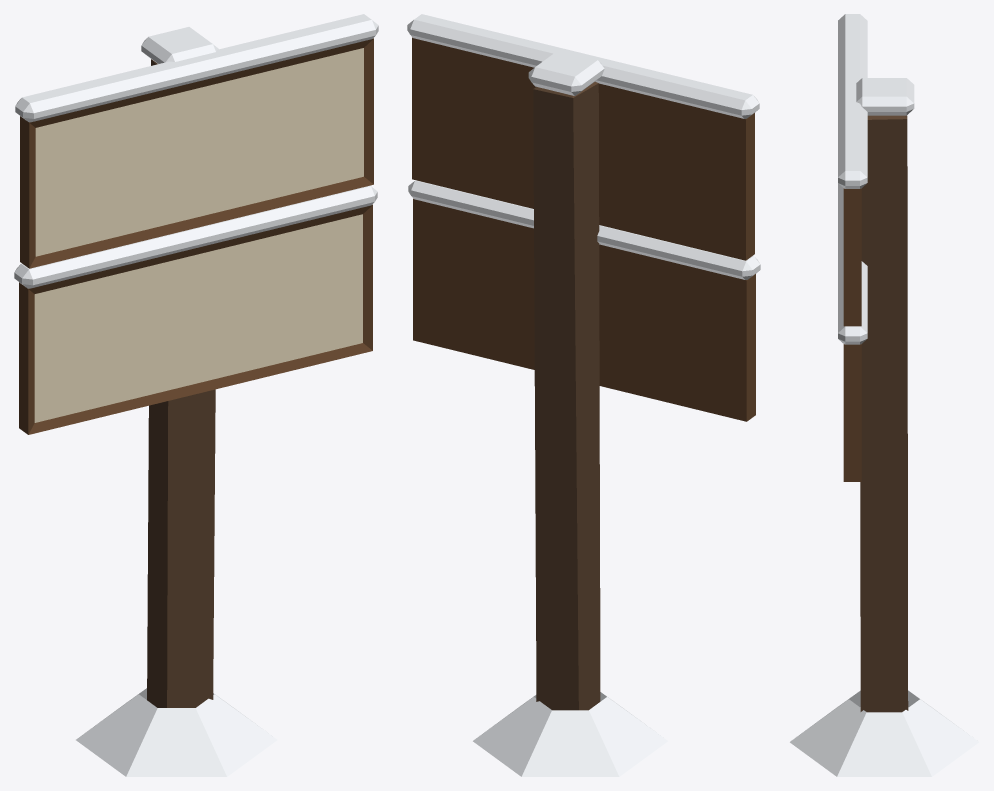
File: trail-sign-double.glb
The picture shows the model from 3 angles, left to right: view 1: azimuth 30°, elevation 25°; view 2: azimuth 150°, elevation 25°; view 3: azimuth 270°, elevation 25°; orthographic projection. The views are drawn at different scales.
Visible parts, largest first — view 1: trail-sign-double; view 2: trail-sign-double; view 3: trail-sign-double.
Boxes of the visible parts, x1=… form: trail-sign-double: x1=14, y1=14, x2=378, y2=776; trail-sign-double: x1=407, y1=14, x2=760, y2=776; trail-sign-double: x1=790, y1=14, x2=978, y2=776.
Bounding box in the file's own units: 1.3 × 2.44 × 0.64.
